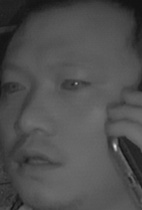eye: (59, 74, 92, 94), (2, 77, 28, 96)
mouth: (11, 142, 60, 177)
